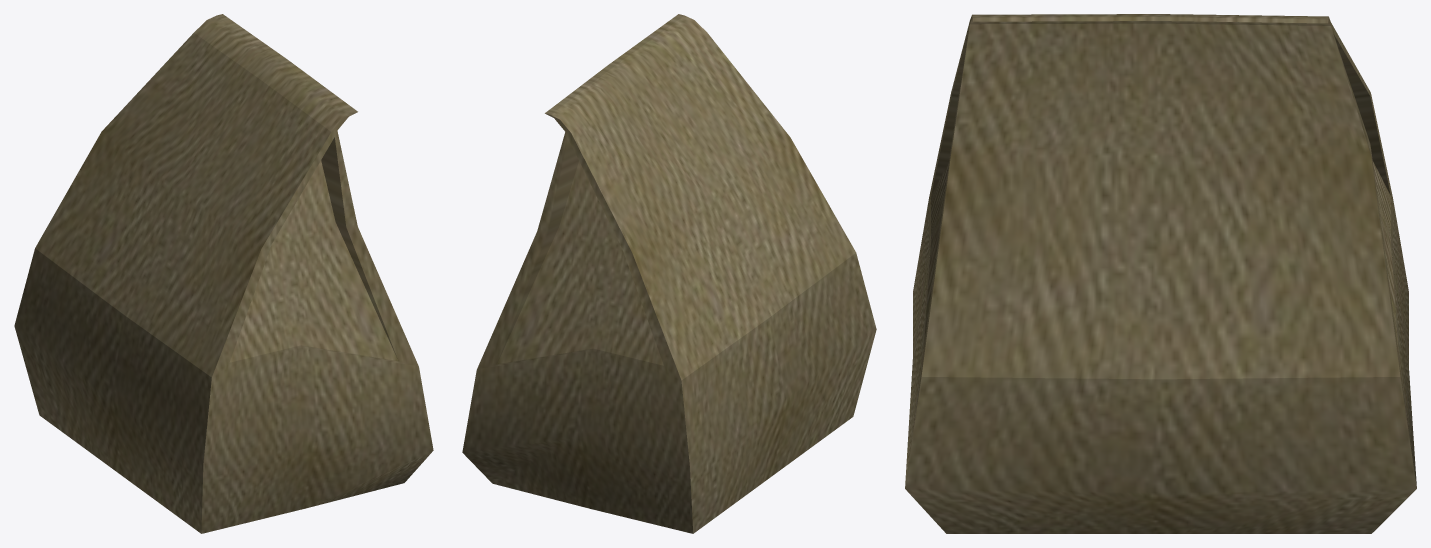
Rendered from bag.glb.
3 renders of one model, left to right at view 1: azimuth 30°, elevation 25°; view 2: azimuth 150°, elevation 25°; view 3: azimuth 270°, elevation 25°, orthographic. The views are drawn at different scales.
Visible parts, largest first — view 1: bag.ms3d.mo; view 2: bag.ms3d.mo; view 3: bag.ms3d.mo.
Boxes of the visible parts, box(x1,y1,x2,y2) form: bag.ms3d.mo: box(14, 14, 433, 533); bag.ms3d.mo: box(462, 14, 876, 533); bag.ms3d.mo: box(905, 14, 1416, 533).
Size of the model in its own units: 5.78 by 9.1 by 8.59.
1 material, 1 textured.
